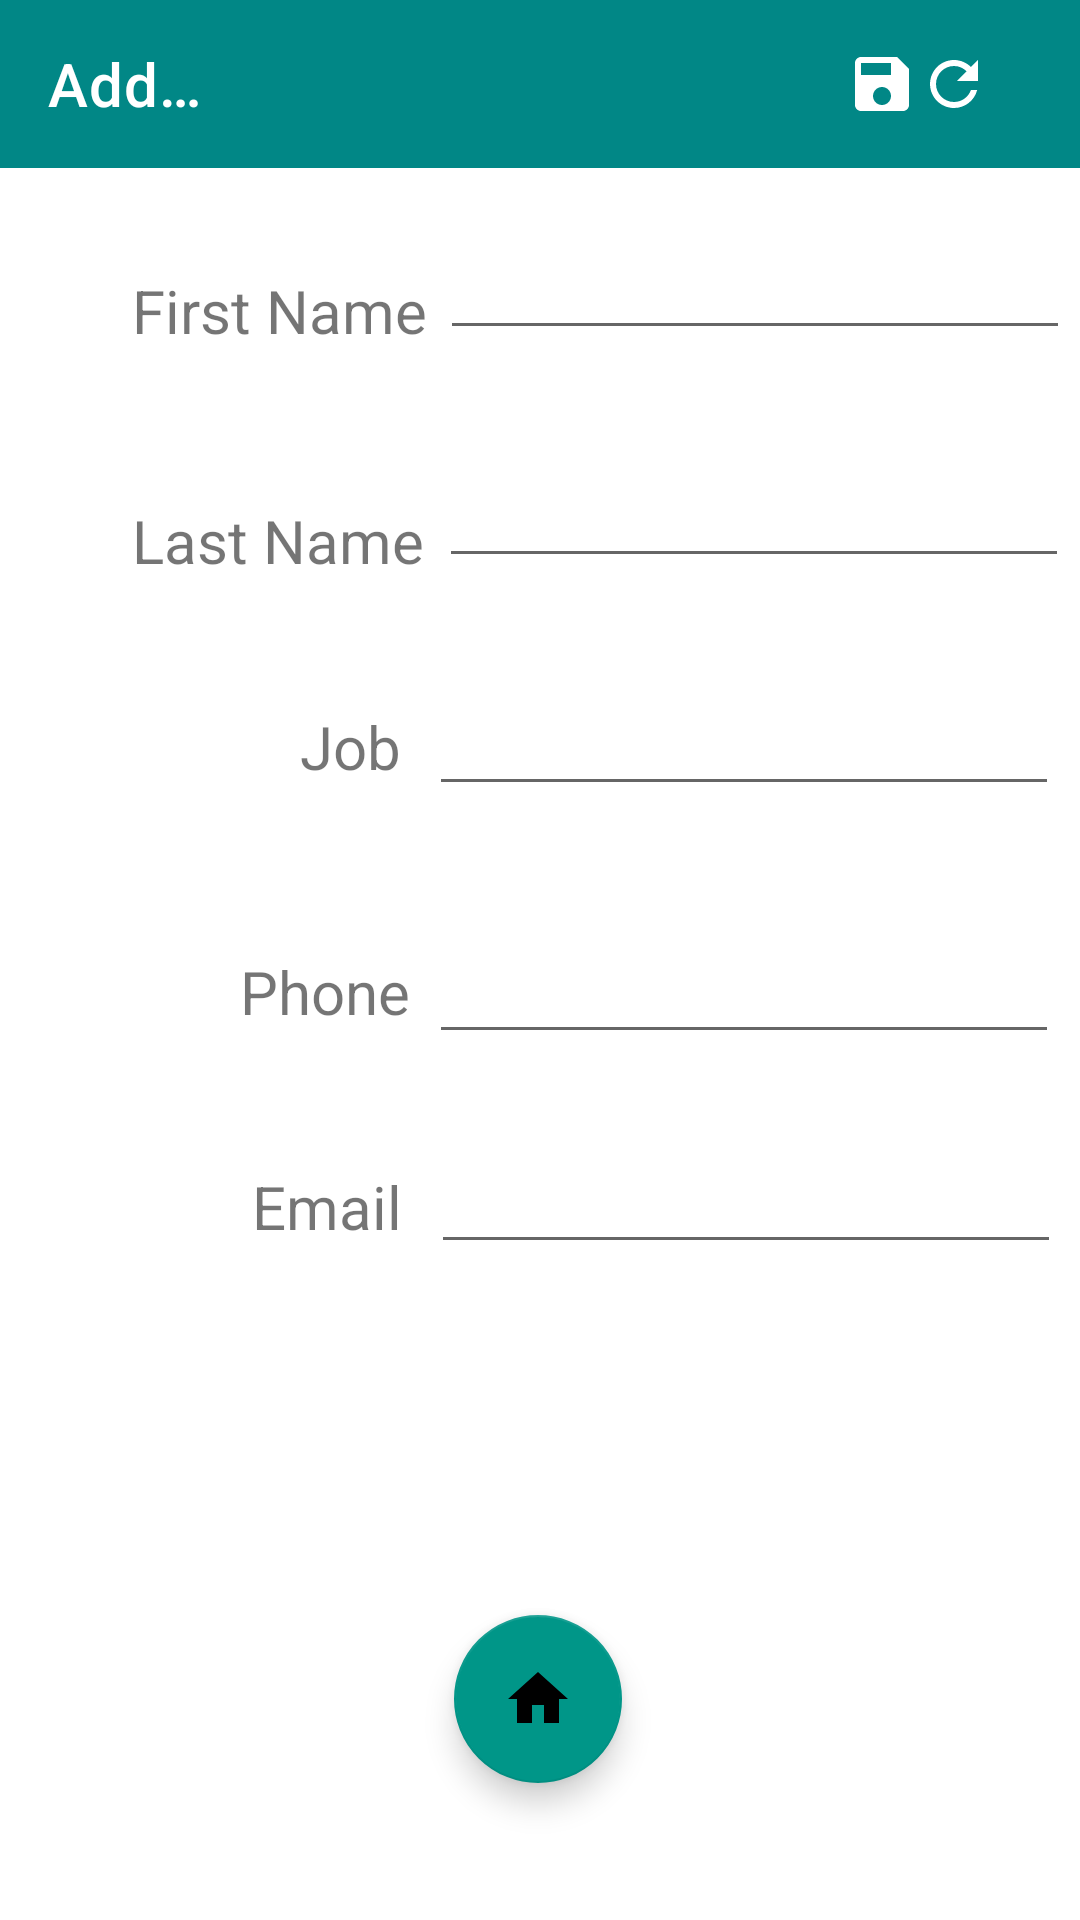

Icon click points for this 1080×1920 phone screenshot, format point (x, y):
home: point (538, 1699)
refresh: point (954, 84)
save: point (882, 84)
